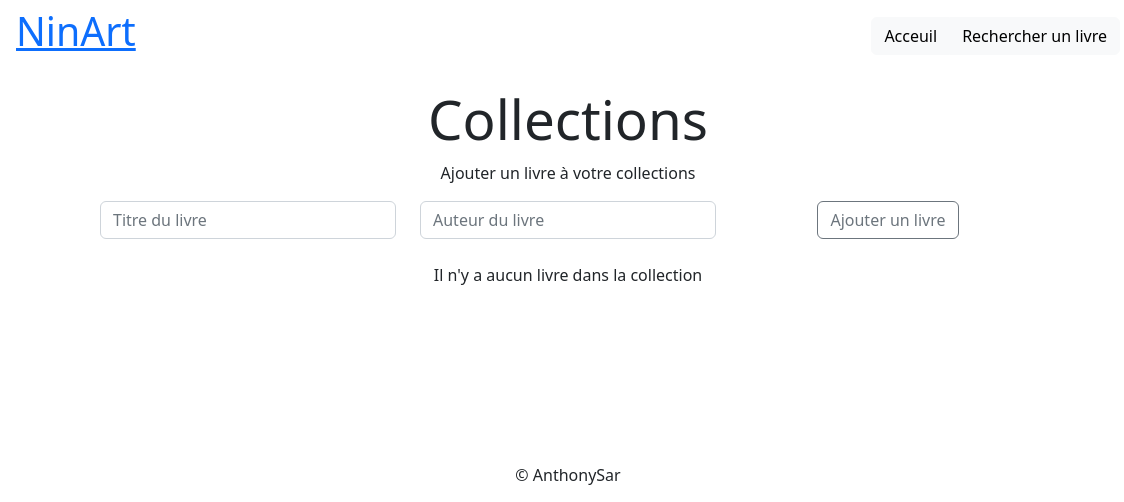
Scenario: Page d'accueil, test des inputs, ajout d'un livre, suppresion d'un livre et de tous les livres › Supression d'un livre
In the field with placeholder "Titre du livre": coordinates (248, 220) [100,201,396,239], type "My New Book"
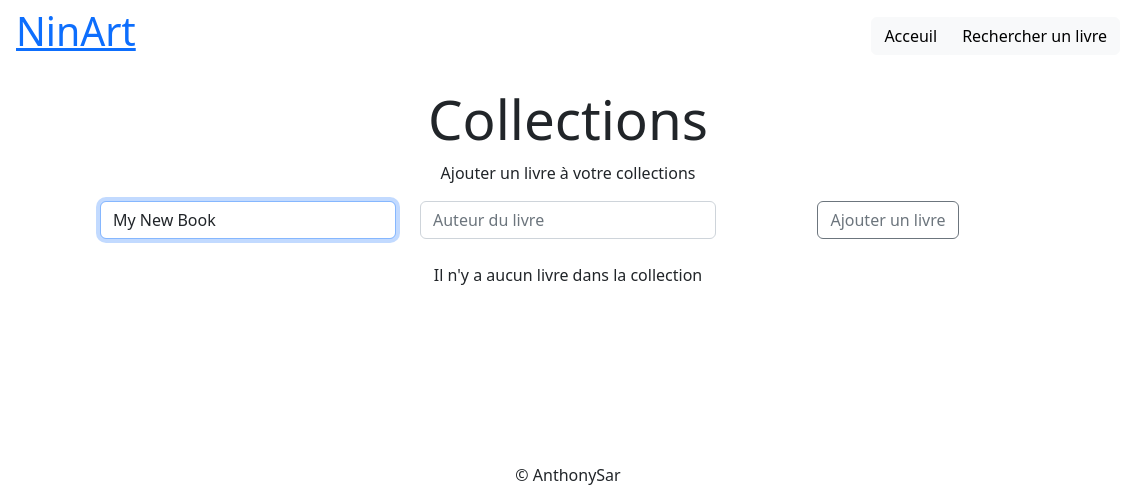
In the field with placeholder "Auteur du livre": coordinates (568, 220) [420,201,716,239], type "Jane Doe"
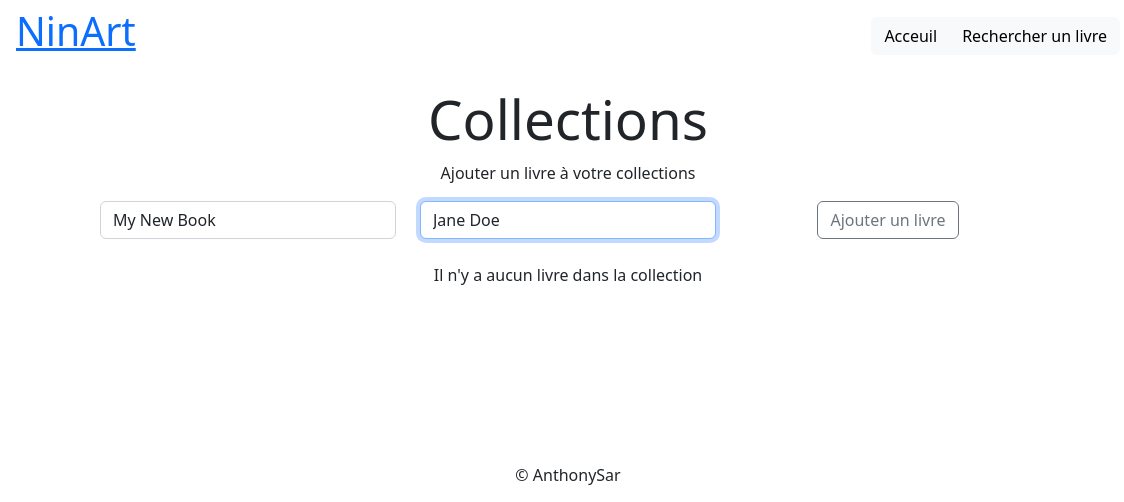
Click the button "Ajouter un livre": coordinates (888, 220) [817,201,958,239]
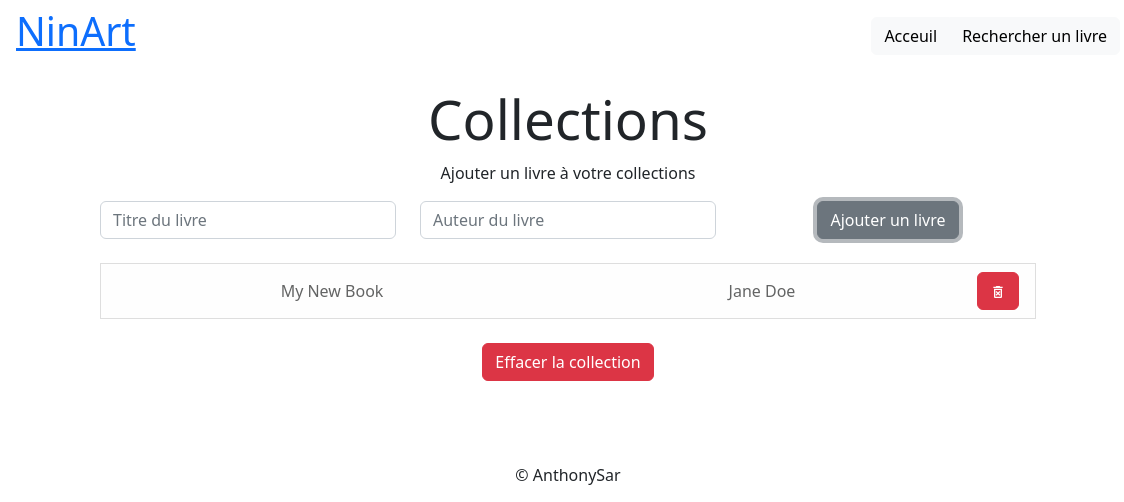
Expected: the text "My New Book" is shown, [281,280,383,302]
Expected: the text "Jane Doe" is shown, [729,280,795,302]
Click the 2nd button: coordinates (998, 291) [977,272,1019,310]
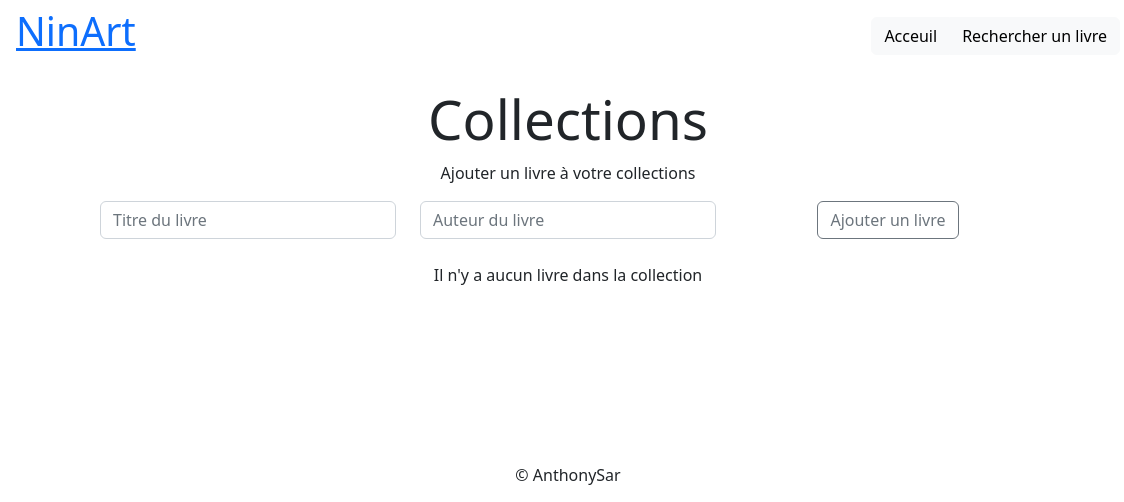
Expected: the text "Il n'y a aucun livre dans la collection" is shown, [434,264,702,286]
